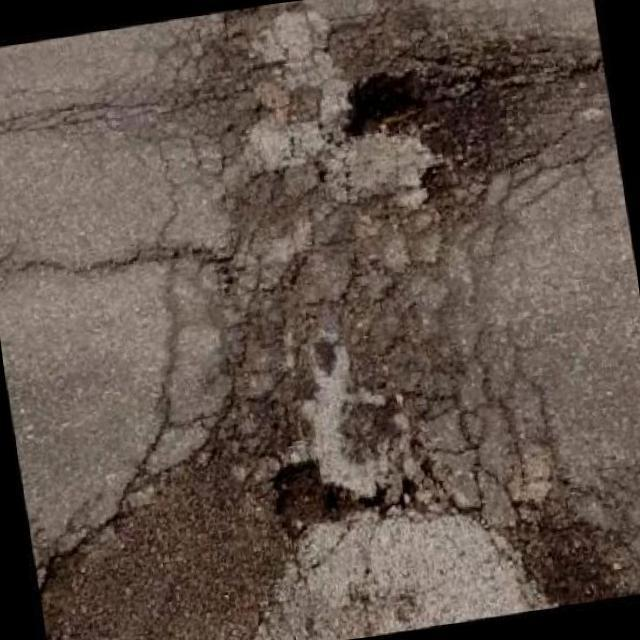Pothole: (273, 462, 384, 540), (343, 73, 426, 135)
